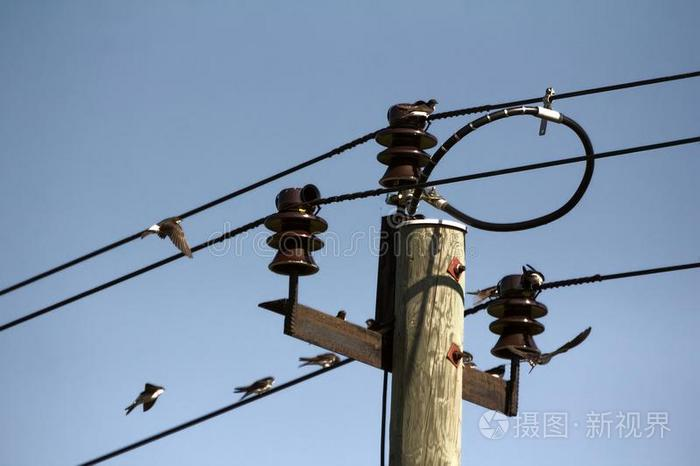insulator: (264, 209, 327, 278), (486, 293, 547, 362), (376, 125, 433, 188)
